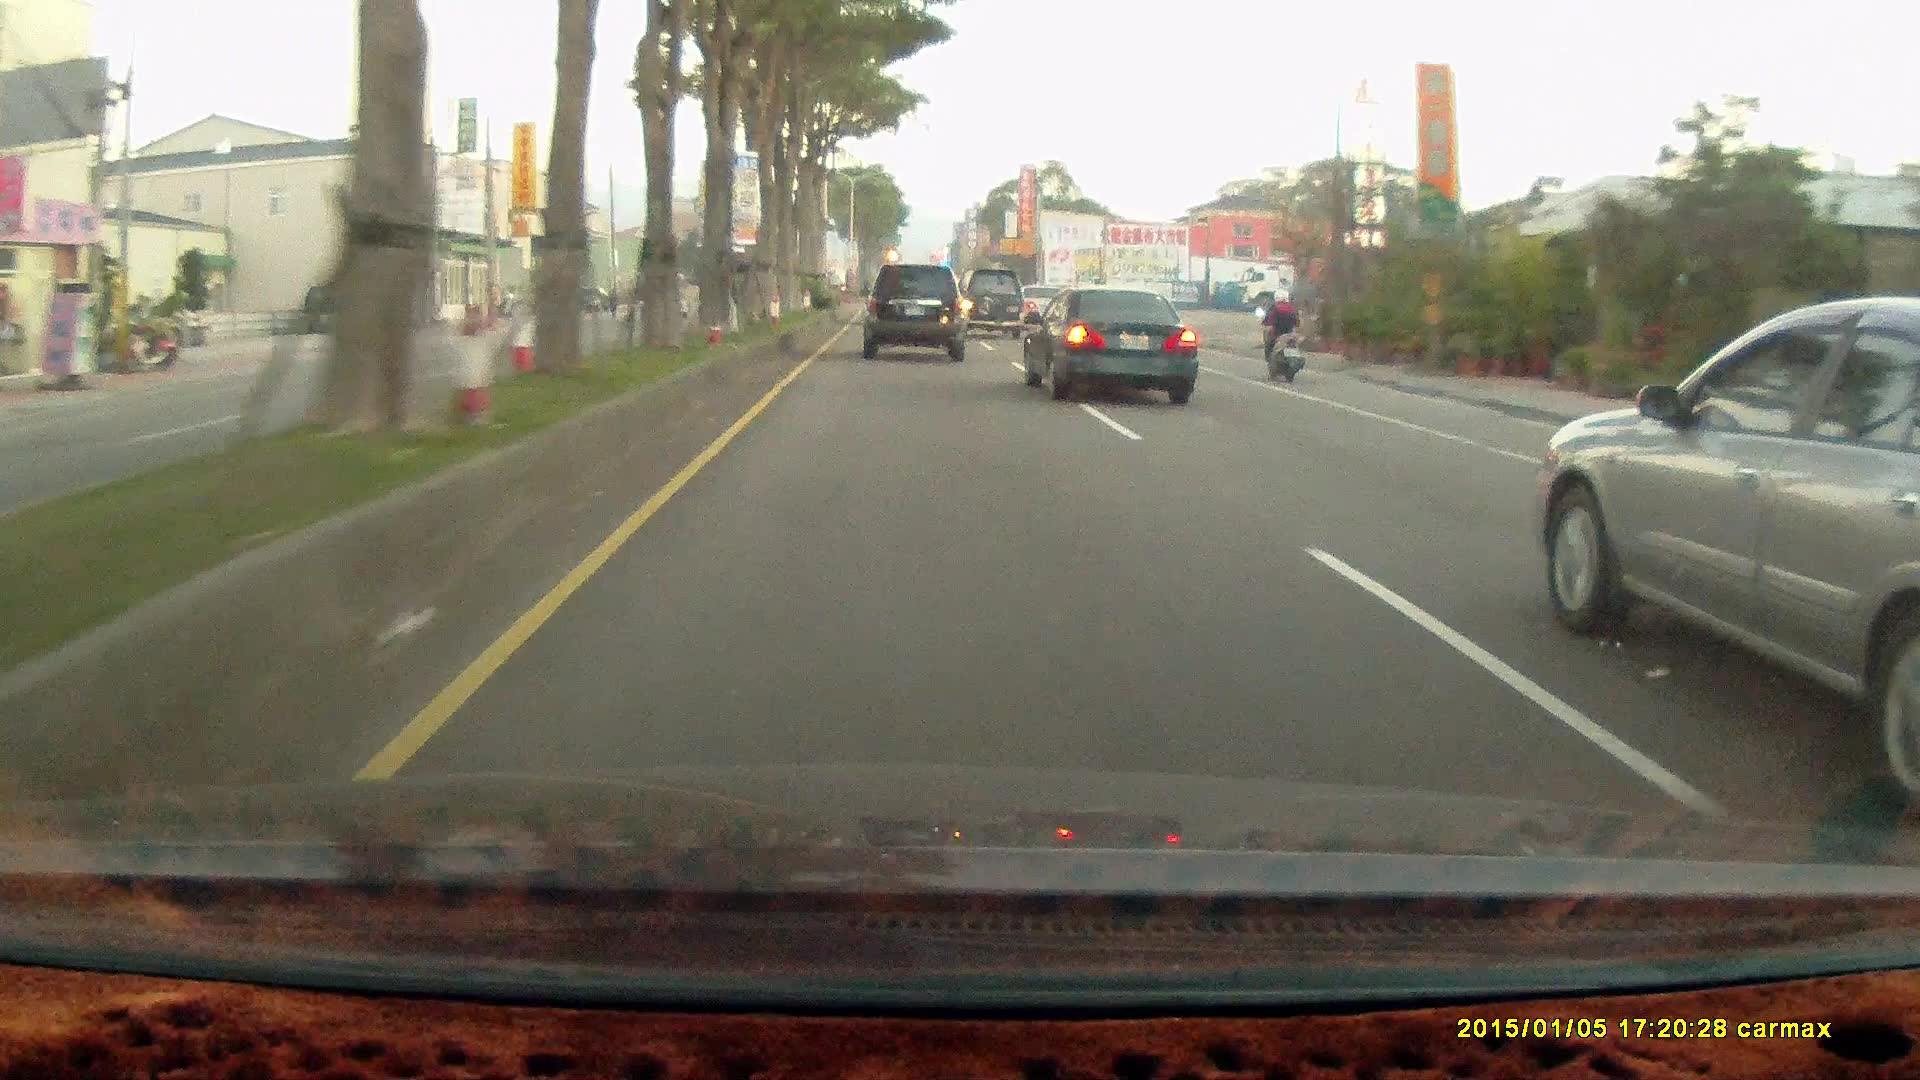rider: (1248, 280, 1316, 392), (1254, 287, 1305, 384)
vehicle: (1530, 296, 1918, 826), (1022, 281, 1198, 404), (1022, 285, 1202, 403), (1246, 260, 1466, 313), (860, 264, 971, 364), (861, 261, 966, 359), (299, 282, 405, 338), (952, 266, 1027, 341)
